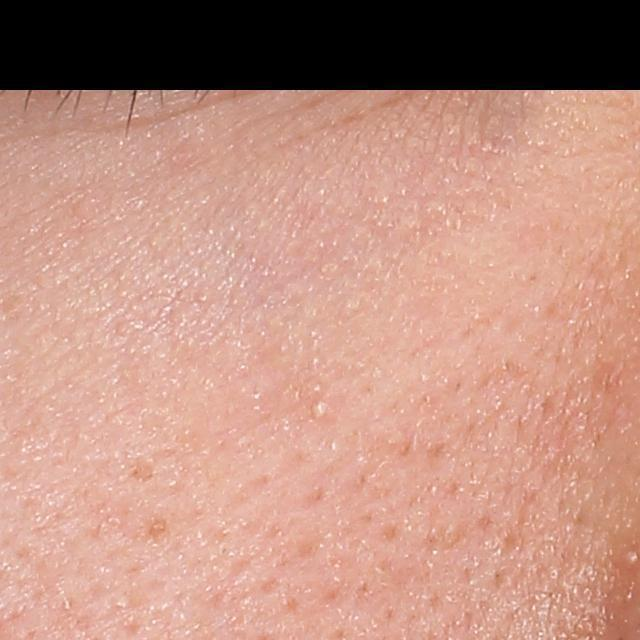pustule: (309, 397, 333, 418)
